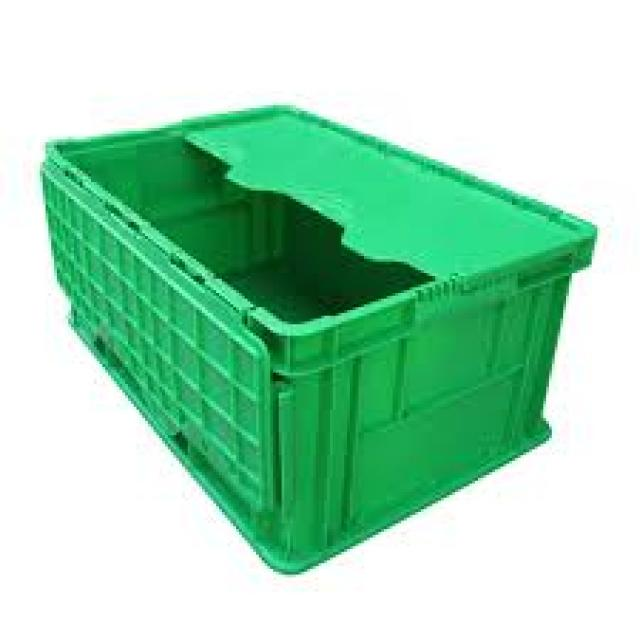basket: (0, 30, 629, 640)
